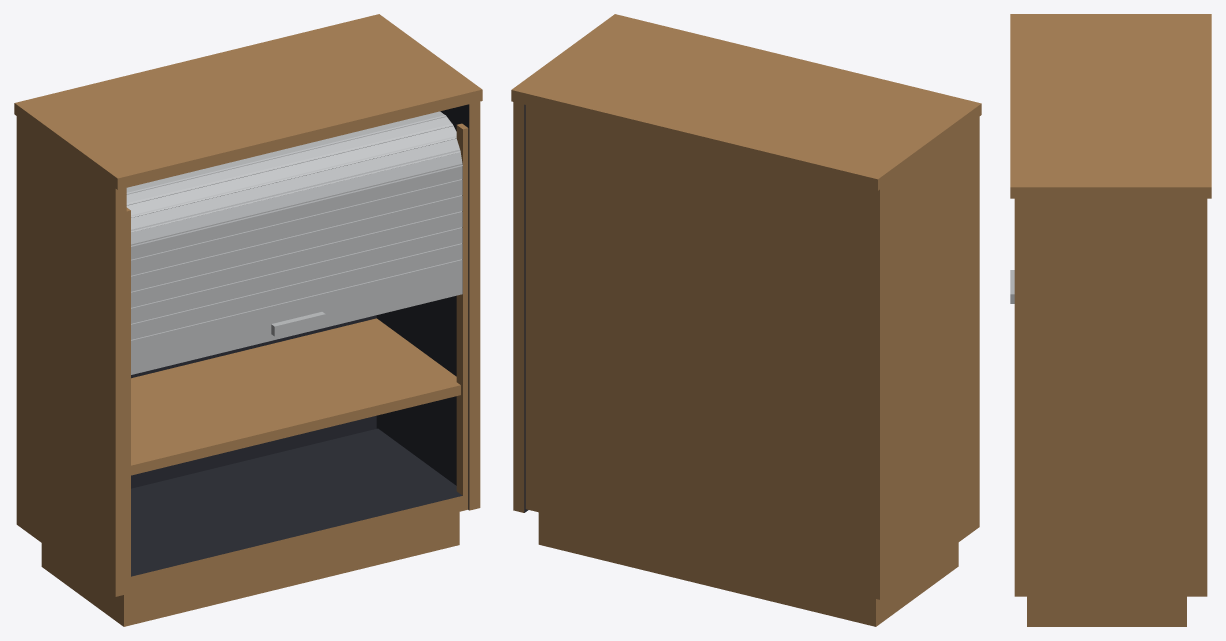
File: FN_Cabinet_Tambour.obj
3 renders of one model, left to right at view 1: azimuth 30°, elevation 25°; view 2: azimuth 150°, elevation 25°; view 3: azimuth 270°, elevation 25°, orthographic. The views are drawn at different scales.
Parts seen in each view (by area): view 1: FN_Cabinet_Tambour; view 2: FN_Cabinet_Tambour; view 3: FN_Cabinet_Tambour.
Boxes of the visible parts, <box> form: FN_Cabinet_Tambour: <box>14,14,482,626</box>; FN_Cabinet_Tambour: <box>511,14,981,626</box>; FN_Cabinet_Tambour: <box>1010,14,1211,626</box>.
Size of the model in its own units: 1 by 1.2 by 0.49.
Materials: 1 (1 with a texture image).
